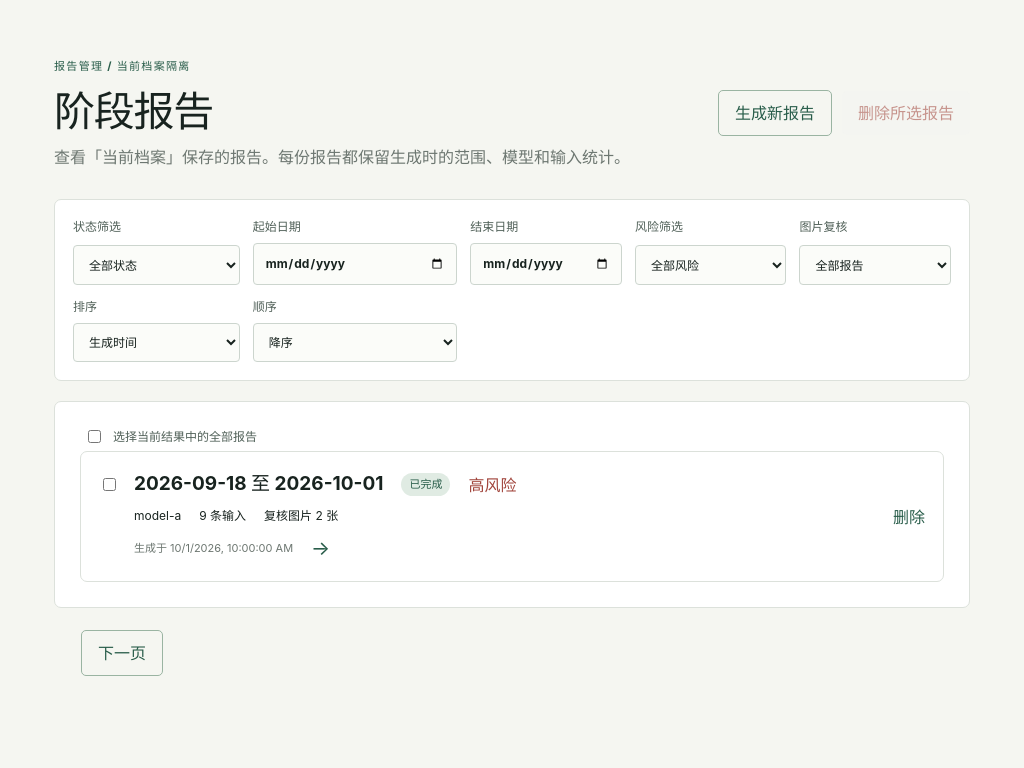
ReportsPage › shows pagination and requests the second page when more reports exist than fit on one page
The image size is (1024, 768).
Expected: the text "2026-09-18 至 2026-10-01" is shown, [134, 470, 384, 499]
Step 1. Click the button "下一页" → (122, 653), box [81, 630, 163, 676]
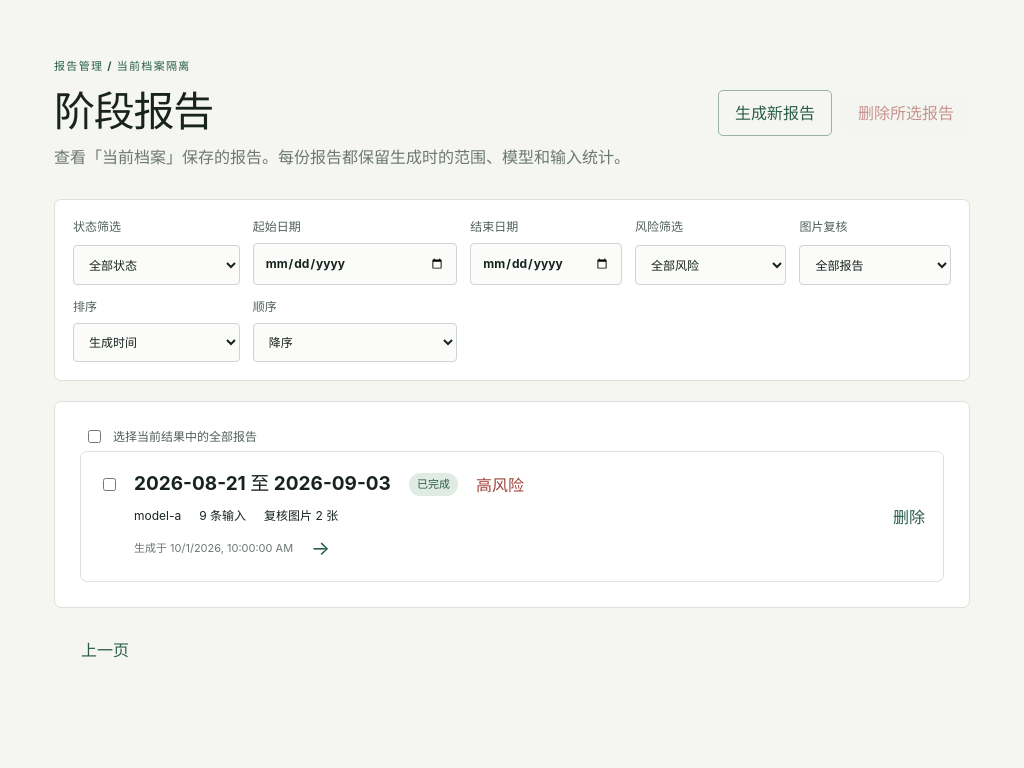
Expected: the text "2026-08-21 至 2026-09-03" is shown, [134, 470, 391, 499]
